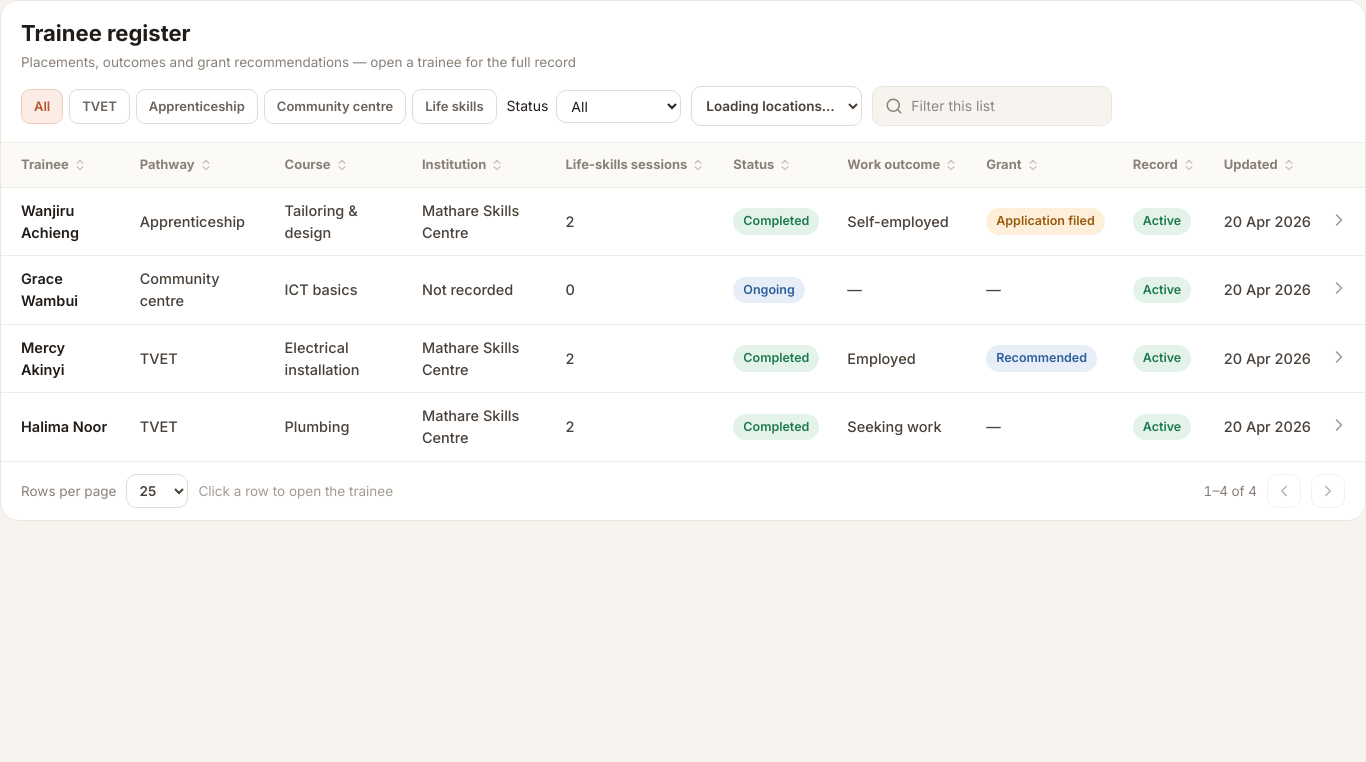
Test: trainee drawer › disables editing and recommending without permission
The width and height of the screenshot is (1366, 762).
Click the button named "Open Halima Noor, Plumbing". click: x=1339, y=425
box: x1=1327 y1=413 x2=1351 y2=437
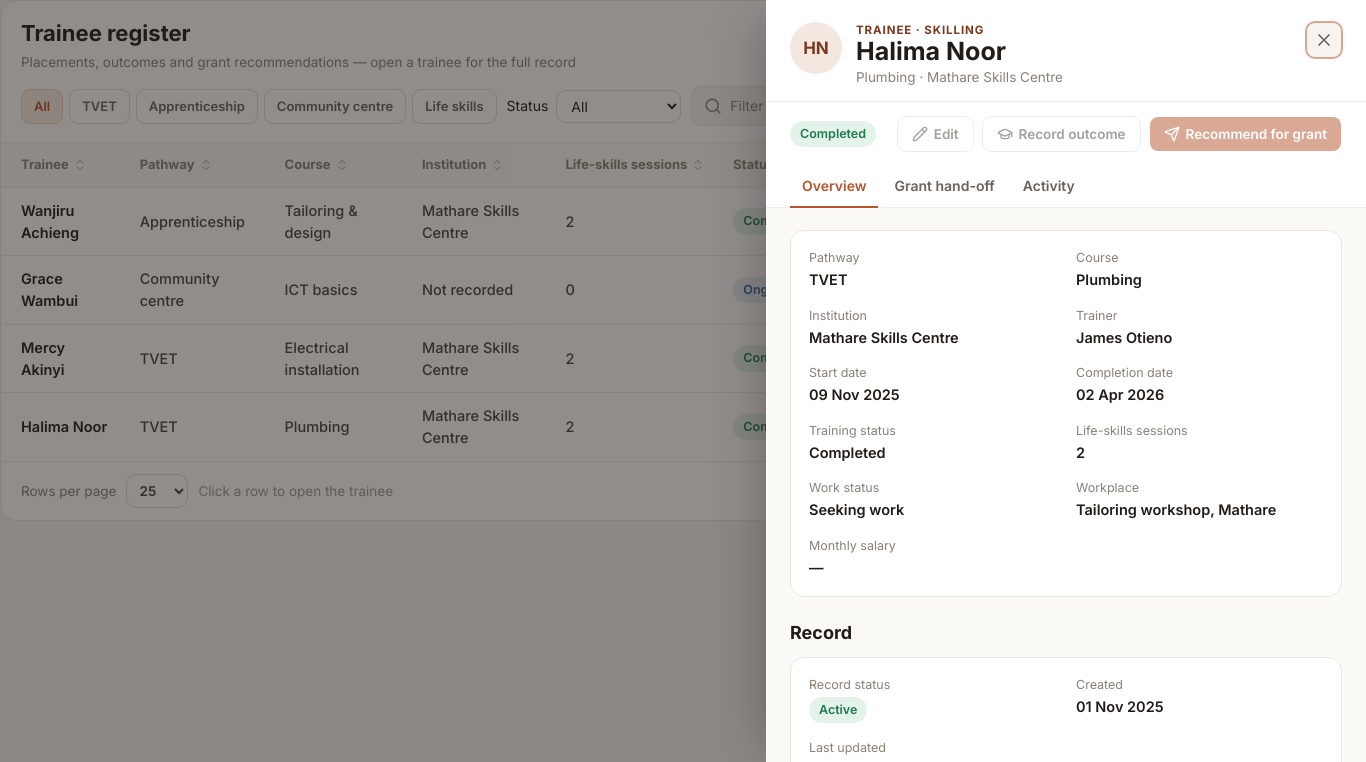
Check: the button "Edit" is disabled, box x1=897 y1=116 x2=974 y2=152
Check: the button "Record outcome" is disabled, box x1=982 y1=116 x2=1140 y2=152
Check: the button "Recommend for grant" is disabled, box x1=1148 y1=116 x2=1342 y2=152
